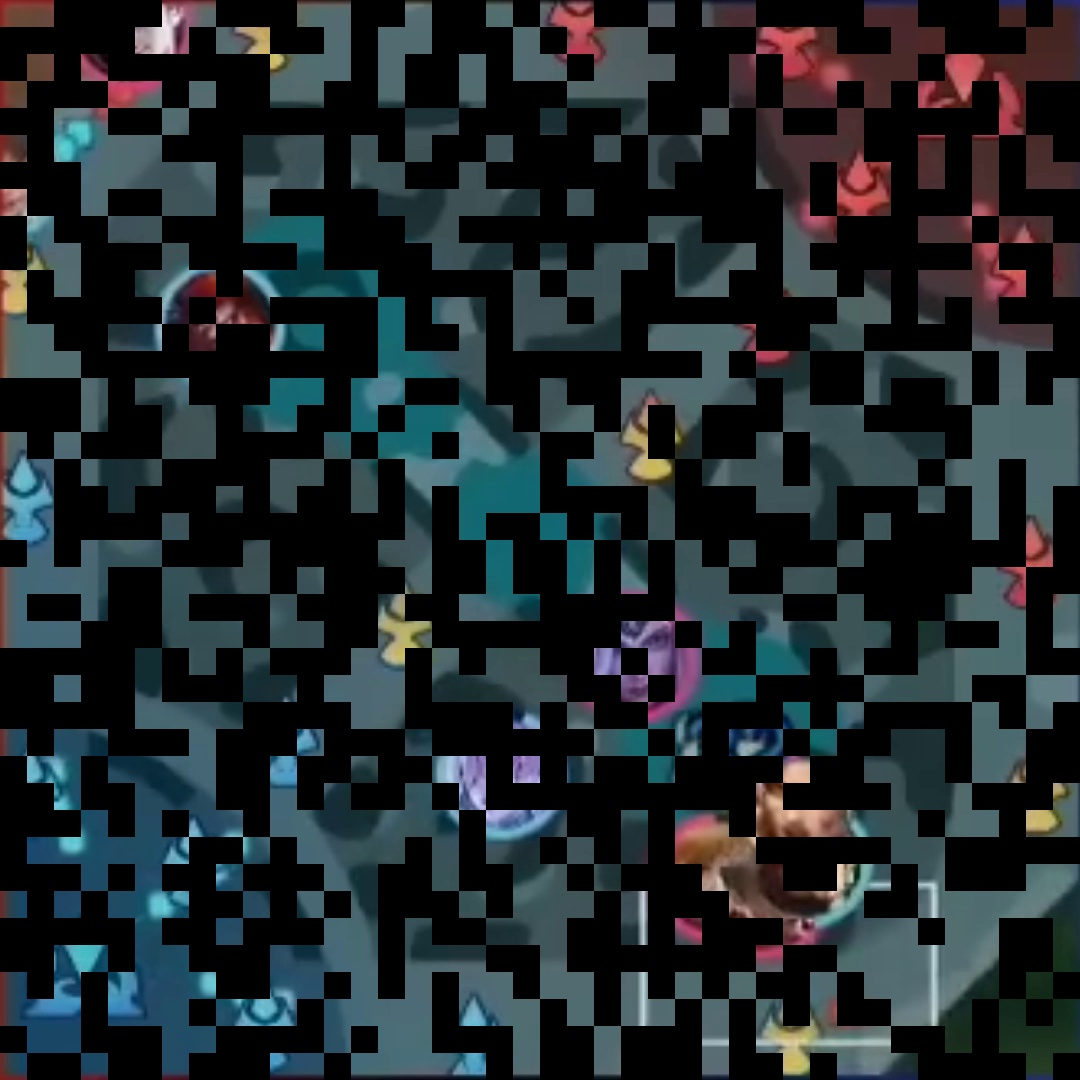Claude: (90, 1, 170, 80)
Fanny: (665, 836, 720, 922)
Lapu-Lapu: (762, 860, 861, 914)
Masha: (756, 763, 833, 854)
Minotaur: (178, 278, 268, 380)
Novaria: (454, 722, 551, 825)
Valentina: (587, 611, 673, 707)
Wanwan: (6, 124, 51, 236)
